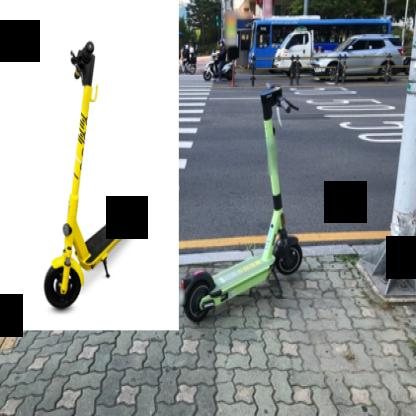kickboard: (178, 72, 325, 316), (37, 37, 149, 322)
